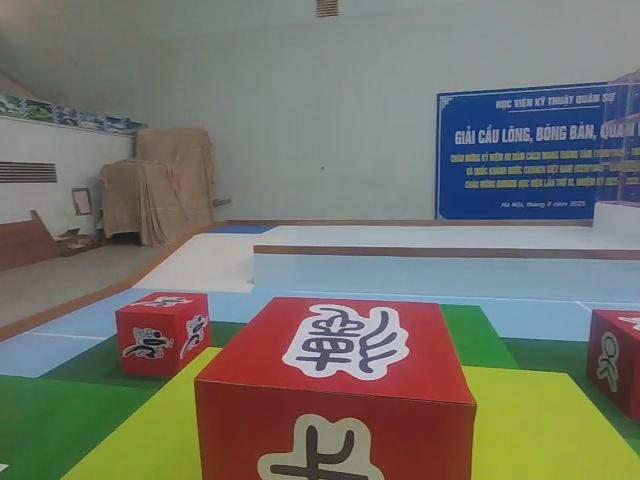R1: (116, 293, 214, 373)
R2 Fake: (195, 291, 477, 480)
R2 Real: (584, 306, 640, 418)
